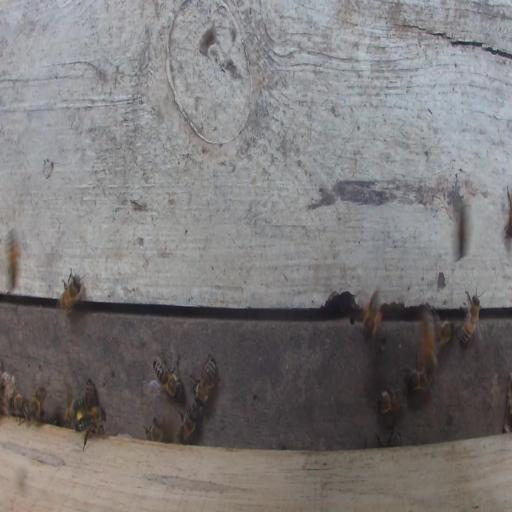nonpollenbee: (152, 357, 183, 401), (75, 409, 105, 451), (57, 266, 84, 311), (421, 307, 439, 369), (459, 294, 480, 345), (195, 357, 216, 407), (374, 385, 404, 415), (177, 403, 198, 444), (5, 228, 19, 288), (403, 366, 428, 393), (9, 392, 29, 424), (29, 386, 47, 421), (144, 415, 165, 442), (375, 429, 402, 447), (85, 379, 99, 411), (504, 186, 512, 240), (438, 321, 455, 343)
pollenbee: (363, 289, 382, 341), (65, 394, 85, 428)
